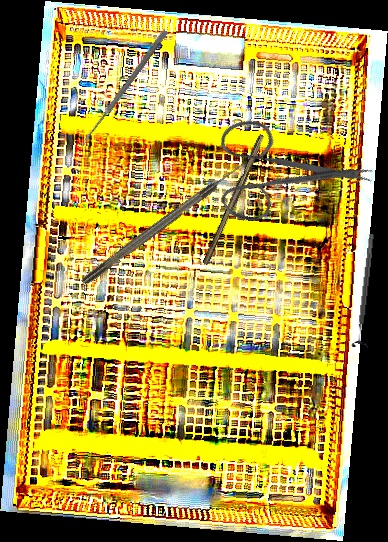Fixation Ring: (351, 233, 381, 349)
Hook Surgical: (79, 160, 247, 287)
Iris Scissors: (188, 72, 379, 262)
Scalpel Handle: (202, 133, 267, 267)
Surgical Spoon: (78, 28, 169, 149)
